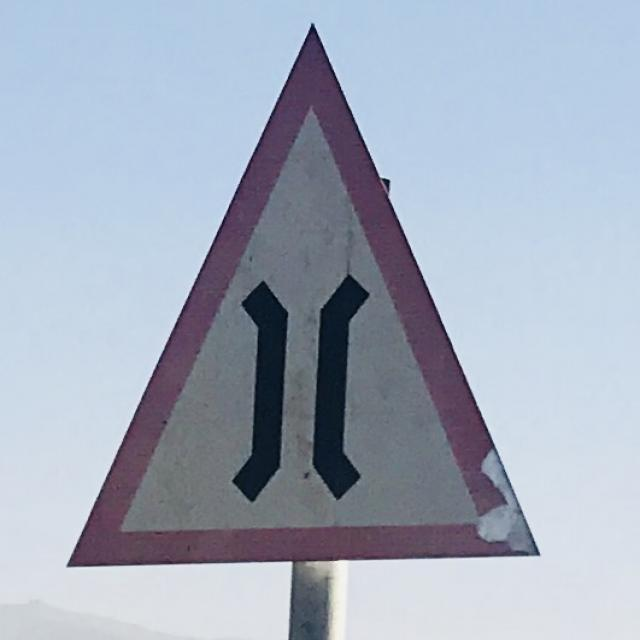narrow bridge ahead: (64, 22, 535, 560)
